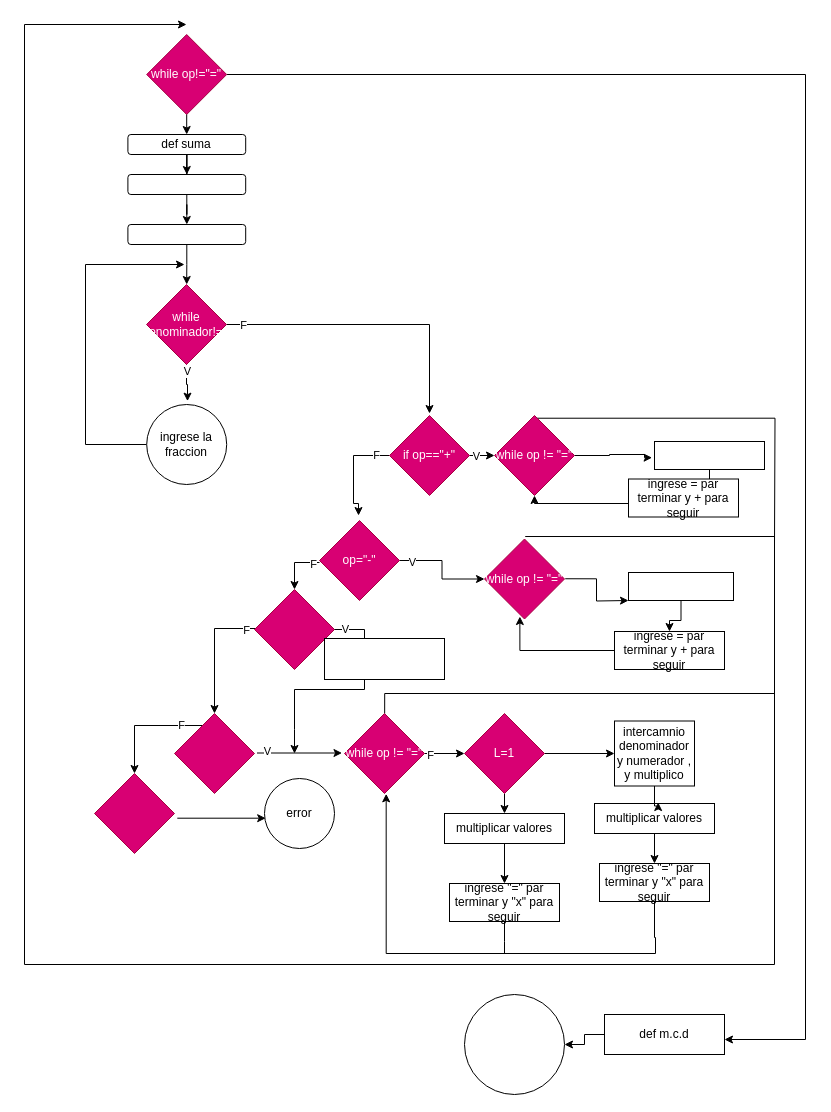
Some shapes in this 831 by 1112 pixel diagram are drawn without their labels. Each missing label, with the centre of its shape:
camnio op por multiplicacion y agrego L=1: the point at 384,659
def multiplicación: the point at 186,234
def resta: the point at 186,184
mostrar resultadosimplificado: the point at 514,1044
op!= "=": the point at 134,813
op="/": the point at 294,629
op="x": the point at 214,753
resto valores: the point at 681,586
sumo valores: the point at 709,455
